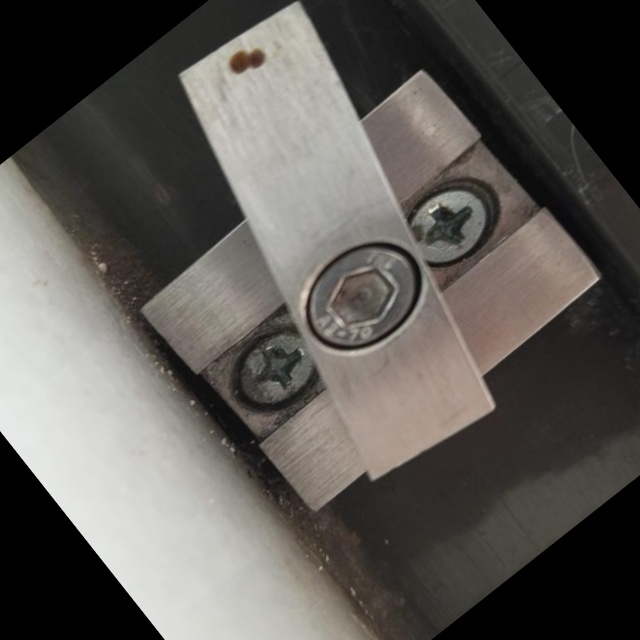allen: (283, 222, 441, 375)
phillips: (394, 171, 506, 281), (223, 317, 330, 422)
